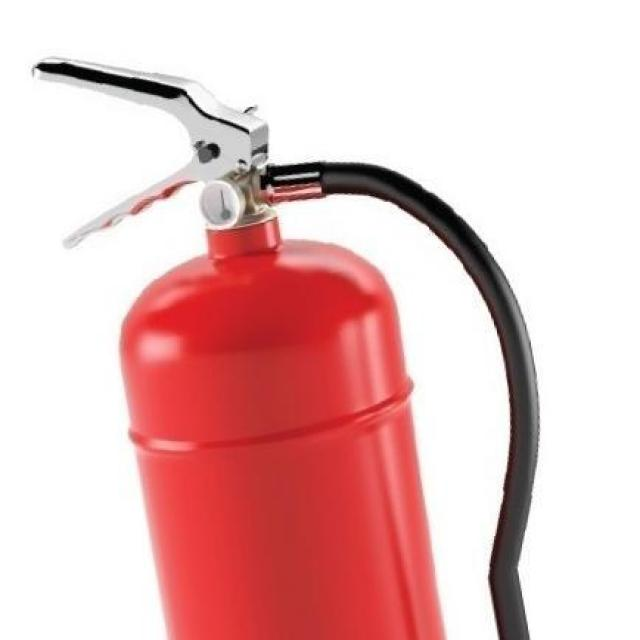fire_extinguisher: (26, 52, 545, 638)
